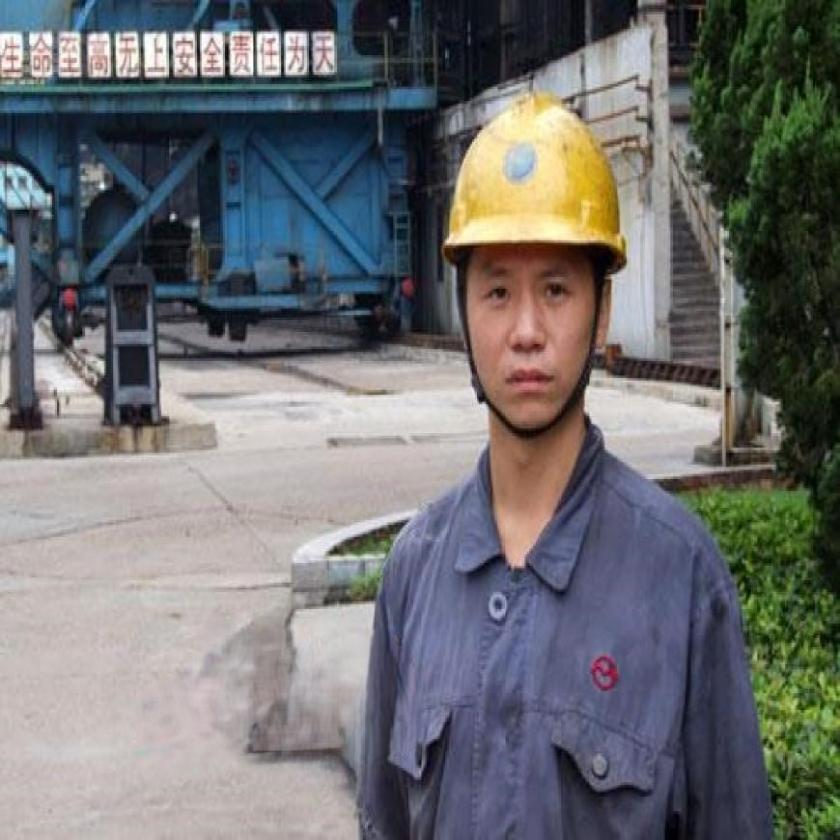Con_casco: (435, 61, 634, 440)
